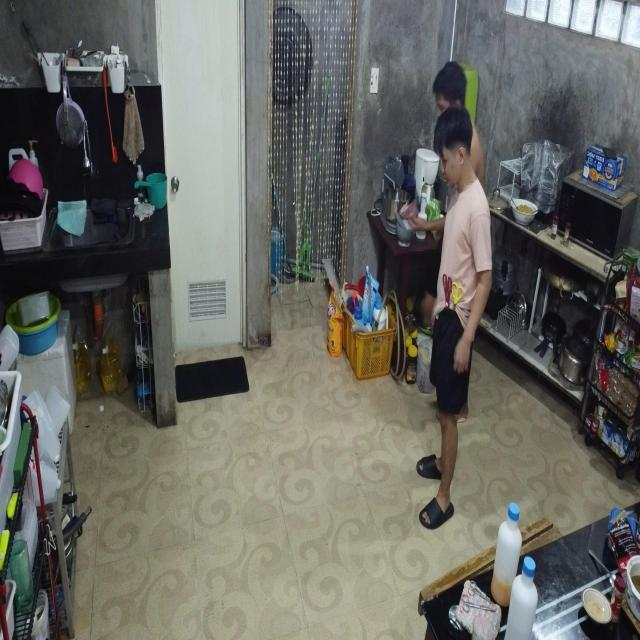scissor: (462, 594, 496, 613), (468, 580, 494, 604), (443, 274, 452, 312), (452, 282, 463, 312)
